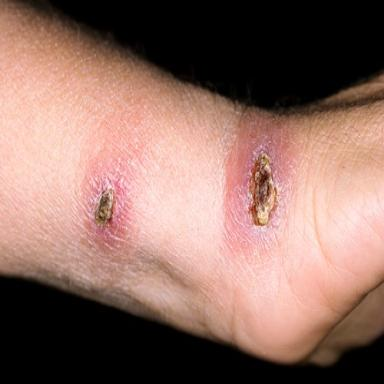Leishmanios: (227, 110, 297, 257), (83, 146, 131, 246)
